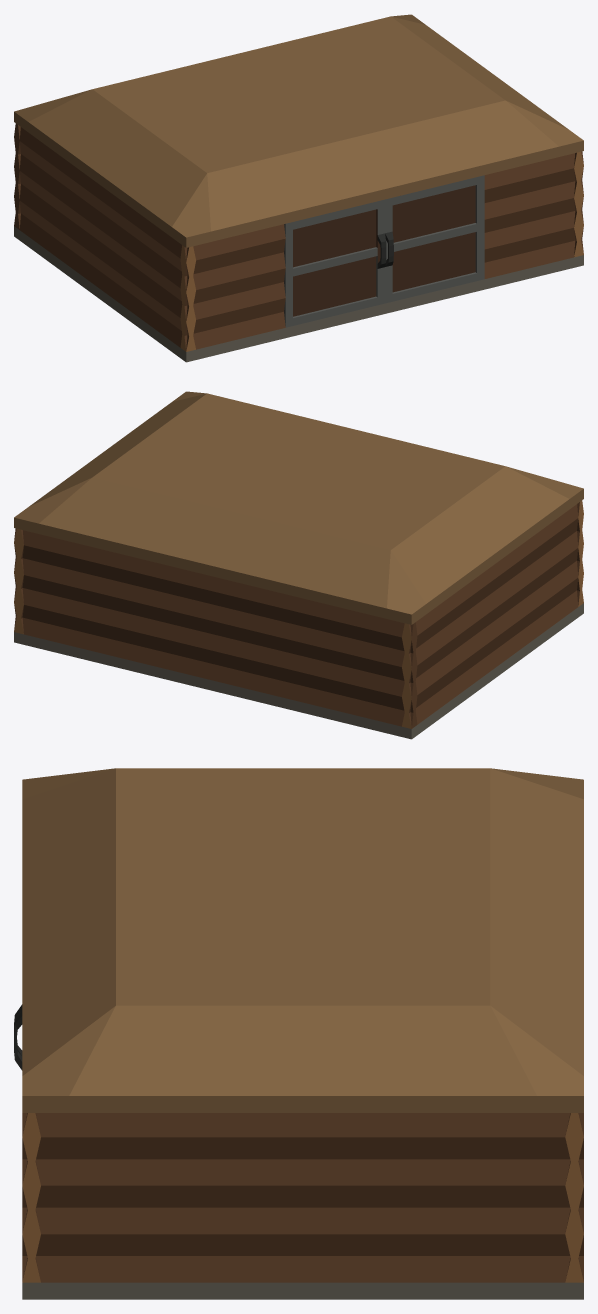
Rendered from Cobertizo.fbx.
The picture shows the model from 3 angles, top to bottom: view 1: azimuth 30°, elevation 25°; view 2: azimuth 150°, elevation 25°; view 3: azimuth 270°, elevation 25°; orthographic projection. The views are drawn at different scales.
Visible parts, largest first — view 1: Cube.031; view 2: Cube.031; view 3: Cube.031.
Part boxes in pixels (x1,y1,x2,y2): Cube.031: (14, 14, 583, 362); Cube.031: (14, 391, 583, 739); Cube.031: (14, 768, 583, 1299).
Bounding box in the file's own units: 1600 × 600 × 1218.
